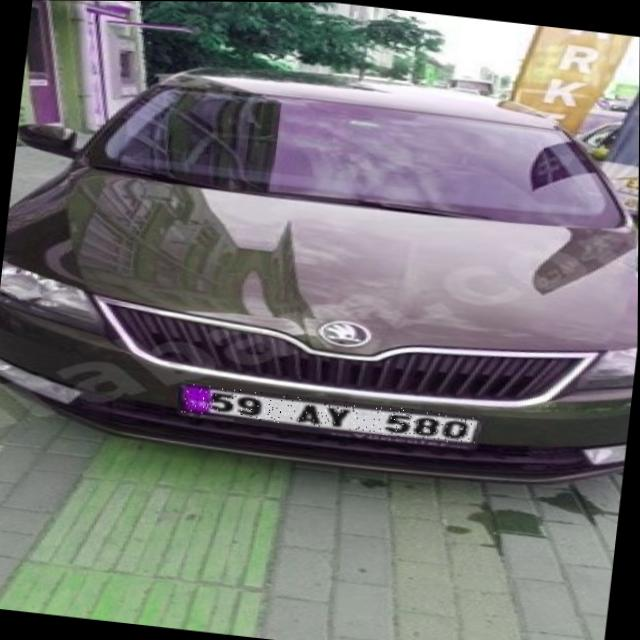license_plate: (179, 382, 478, 444)
